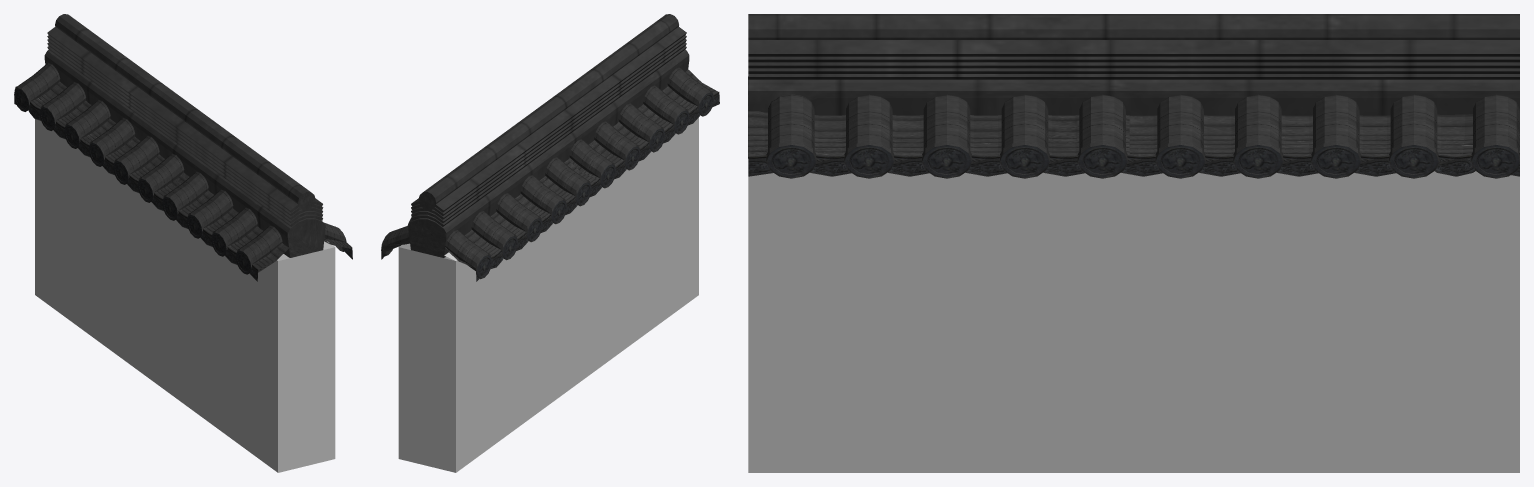
The model's file is SM_HBJ_HG_StoneWallH_Splines_26.fbx.
The picture shows the model from 3 angles, left to right: view 1: azimuth 30°, elevation 25°; view 2: azimuth 150°, elevation 25°; view 3: azimuth 270°, elevation 25°; orthographic projection. The views are drawn at different scales.
Visible parts, largest first — view 1: SM_HBJ_HG_StoneWallH_Splines_26; view 2: SM_HBJ_HG_StoneWallH_Splines_26; view 3: SM_HBJ_HG_StoneWallH_Splines_26.
Part boxes in pixels (box(x1,y1,x2,y2)): SM_HBJ_HG_StoneWallH_Splines_26: box(14, 14, 352, 472); SM_HBJ_HG_StoneWallH_Splines_26: box(381, 14, 719, 472); SM_HBJ_HG_StoneWallH_Splines_26: box(748, 14, 1519, 472).
Bounding box in the file's own units: 65.49 × 286 × 178.
